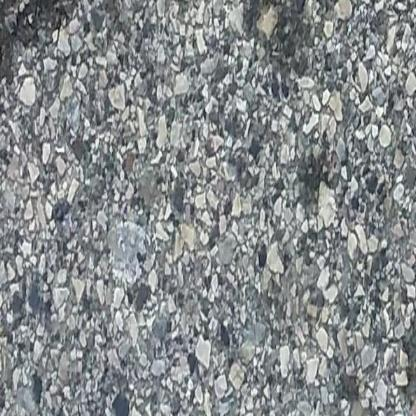Cracks: (0, 0, 137, 96)
